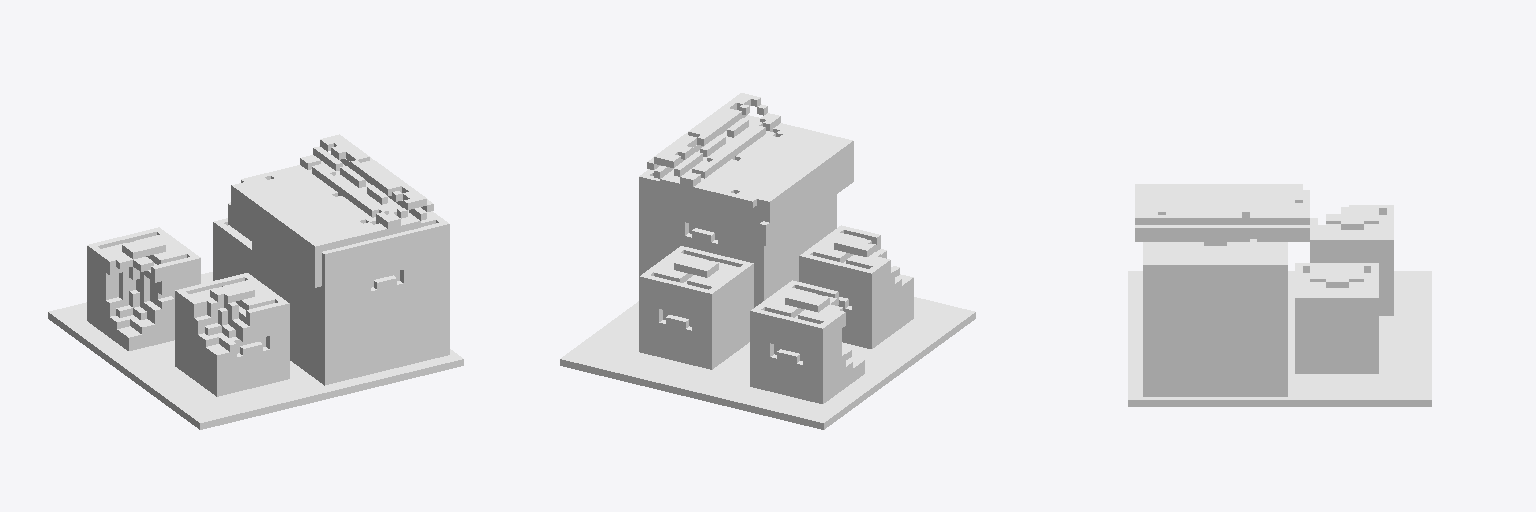
Rendered from Caixas_01.obj.
3 renders of one model, left to right at view 1: azimuth 30°, elevation 25°; view 2: azimuth 150°, elevation 25°; view 3: azimuth 270°, elevation 25°, orthographic.
Size of the model in its own units: 40 by 25 by 40.